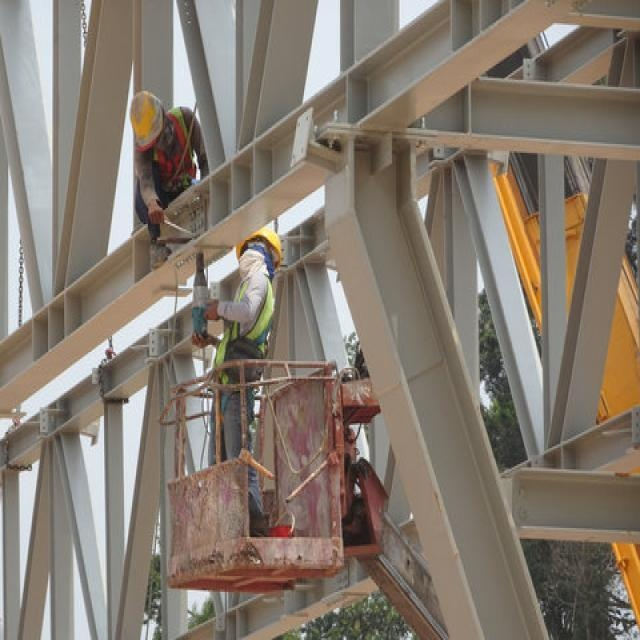Arnes_seguridad: (208, 270, 275, 423), (138, 115, 199, 187)
